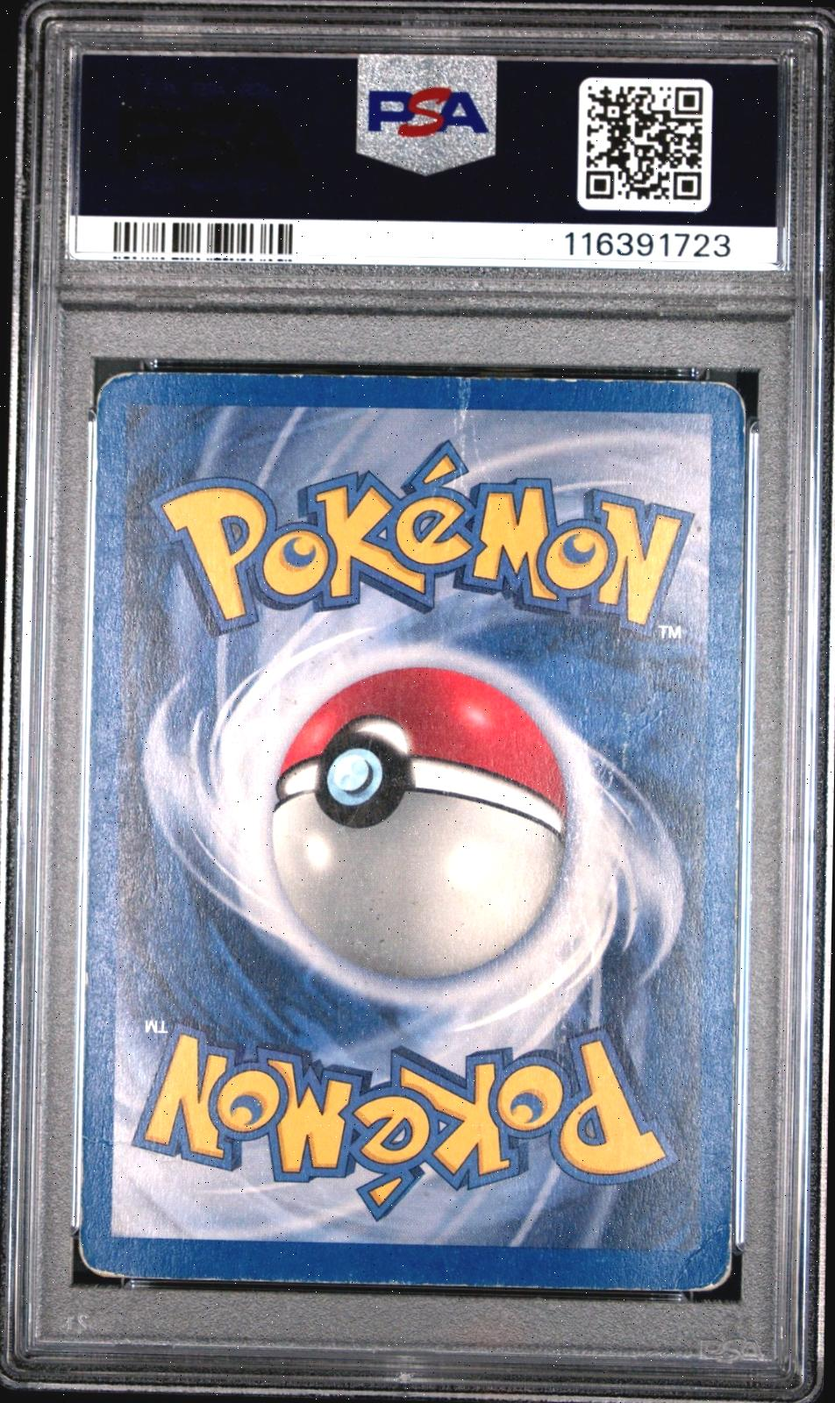card-2UtV: (77, 371, 747, 1292)
